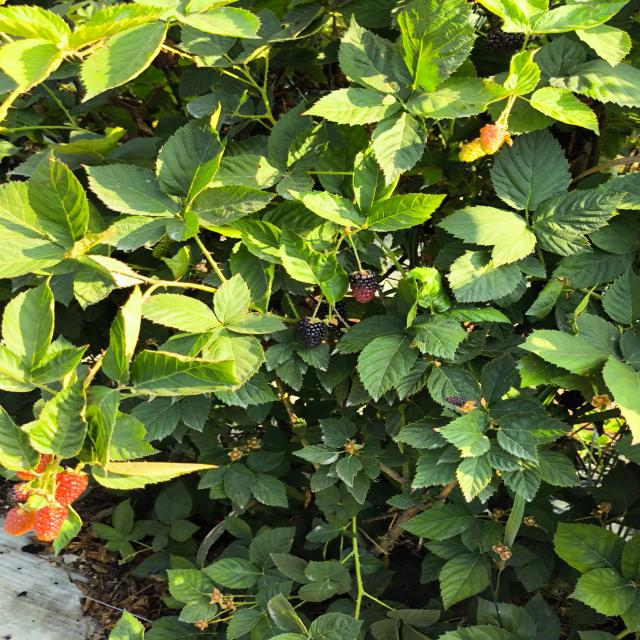maduro: (297, 317, 326, 349)
marron: (348, 270, 378, 303), (7, 482, 32, 503)
naranja: (34, 505, 67, 541), (56, 471, 88, 506), (479, 124, 511, 154), (4, 507, 36, 536), (17, 454, 53, 479)
verde: (459, 138, 486, 162)
